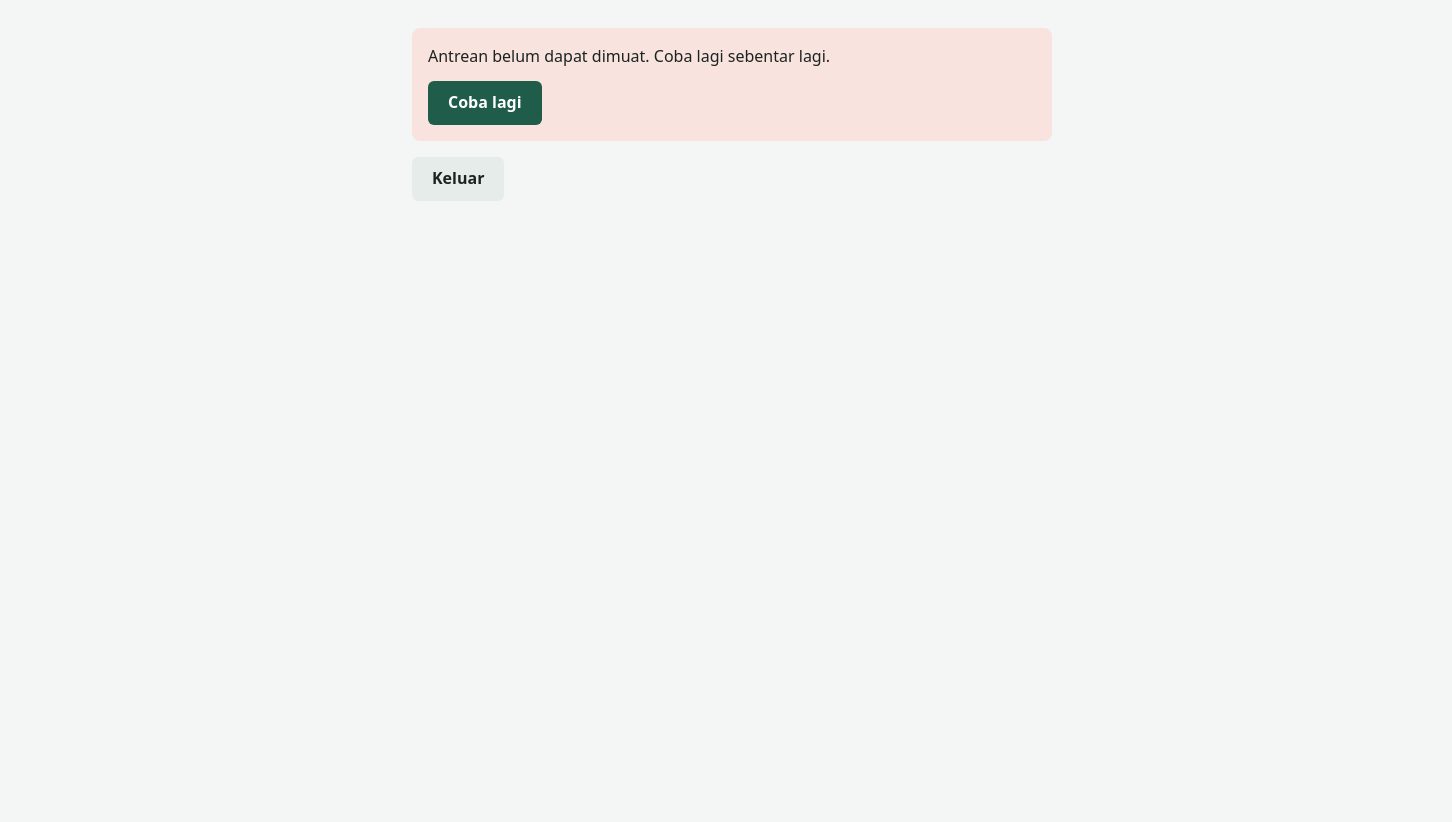
Scenario: cangkang kurator: antrean gagal dimuat, dengan Coba lagi
This screenshot has width=1452, height=822.
Expected: the message shows "Antrean belum dapat dimuat. Coba lagi sebentar lagi.", [428,45,830,67]
Click the button "Coba lagi" at [485, 103], box [428,81,542,125]
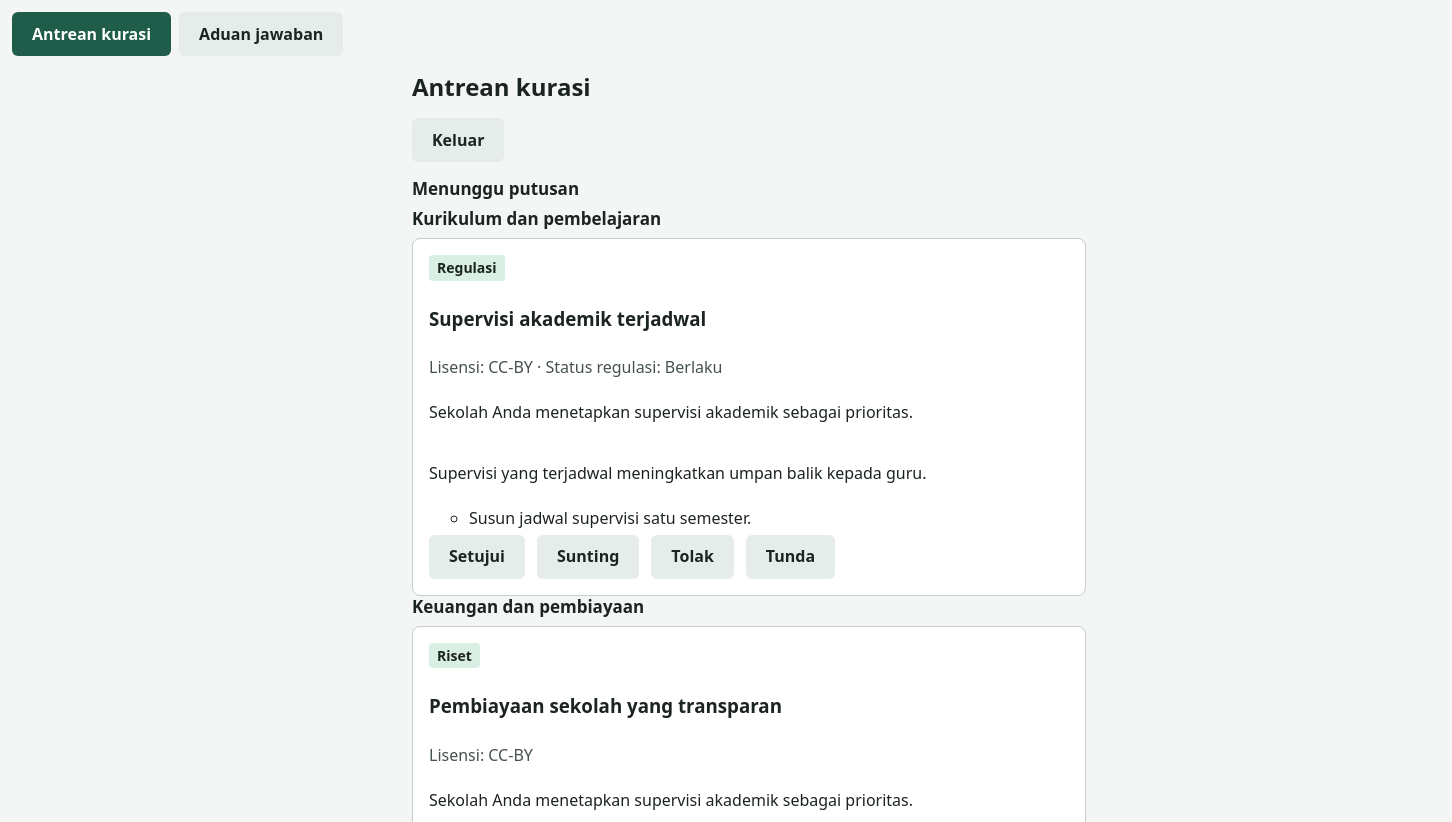
Expected: the heading "Antrean kurasi" is shown, [412,70,591,103]
